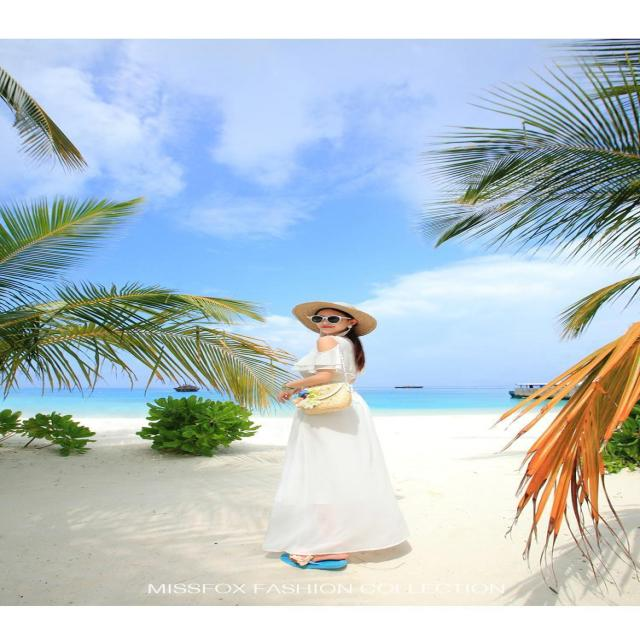short sleeve dress: (265, 337, 408, 552)
